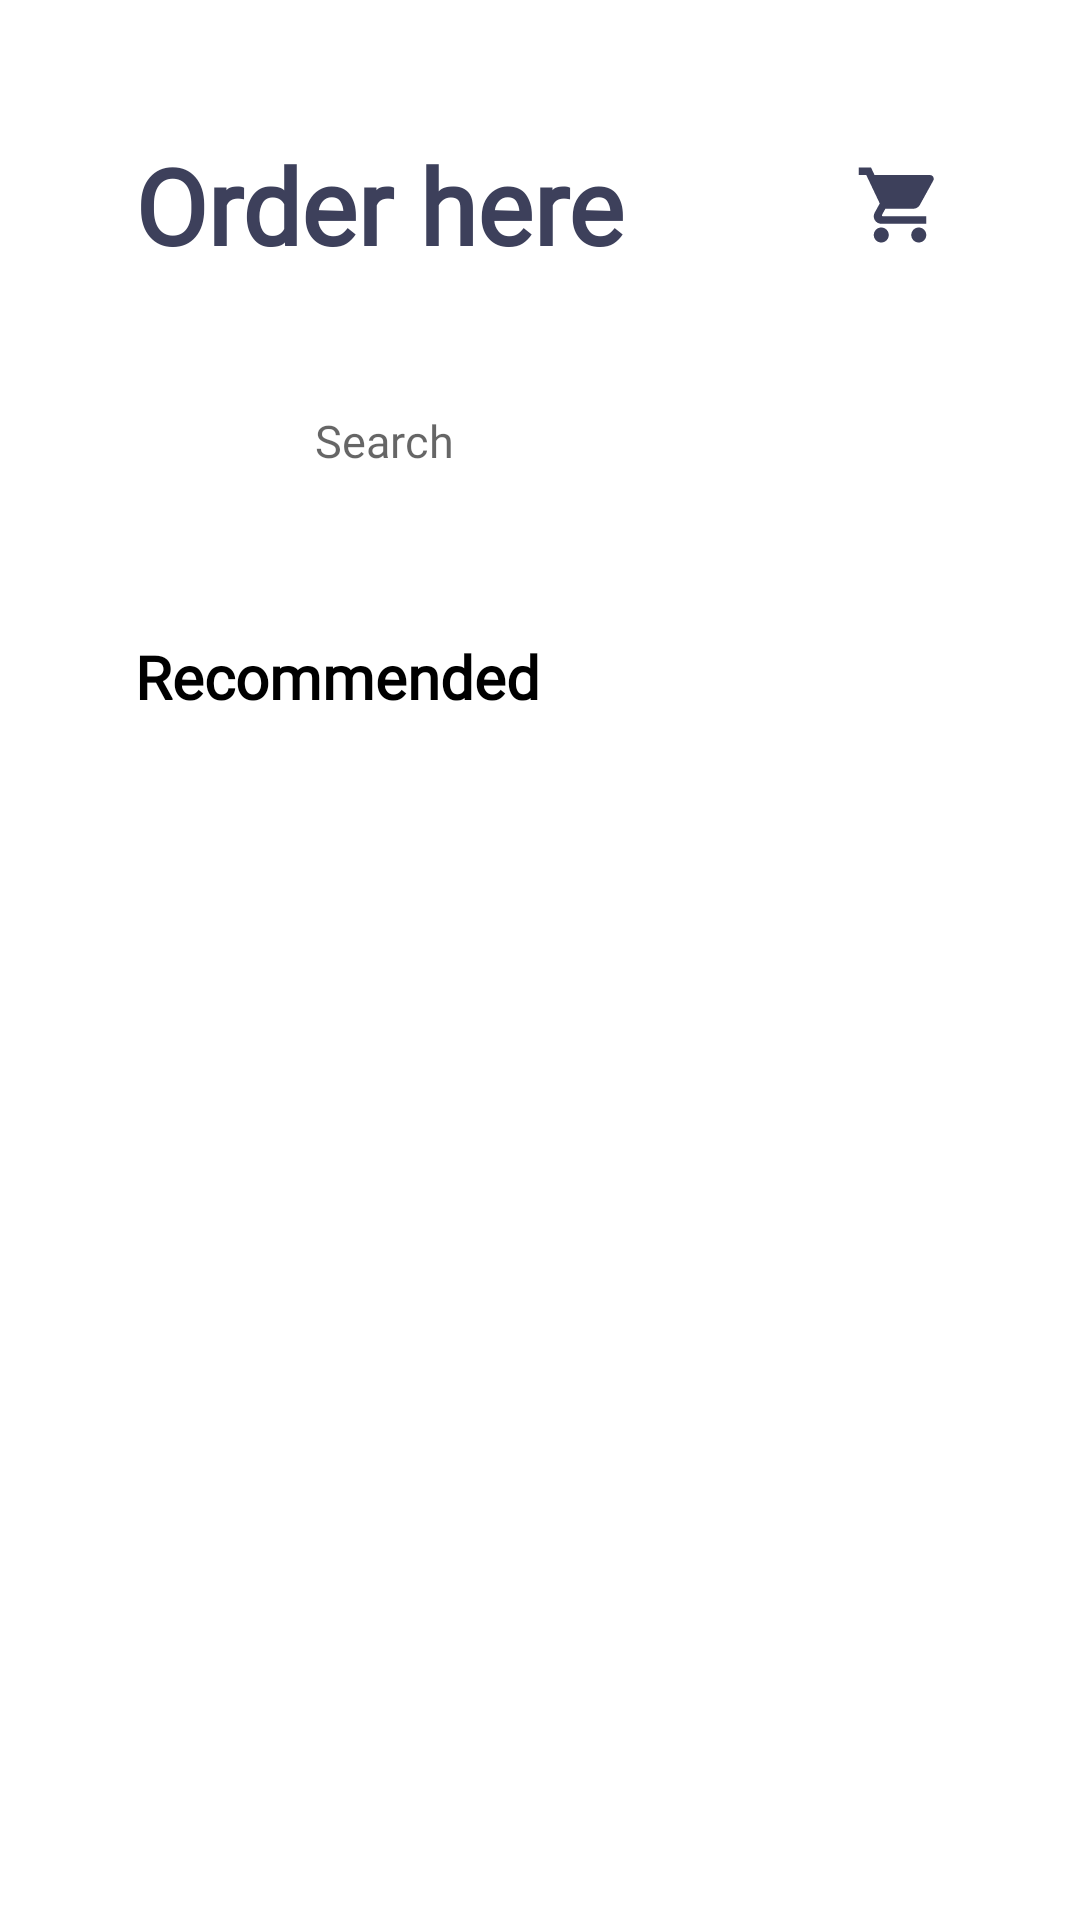

Icons on this 1080*1920 Android screen, each with its box as (x1, y1, x2, y2):
cart: (858, 167, 934, 243)
